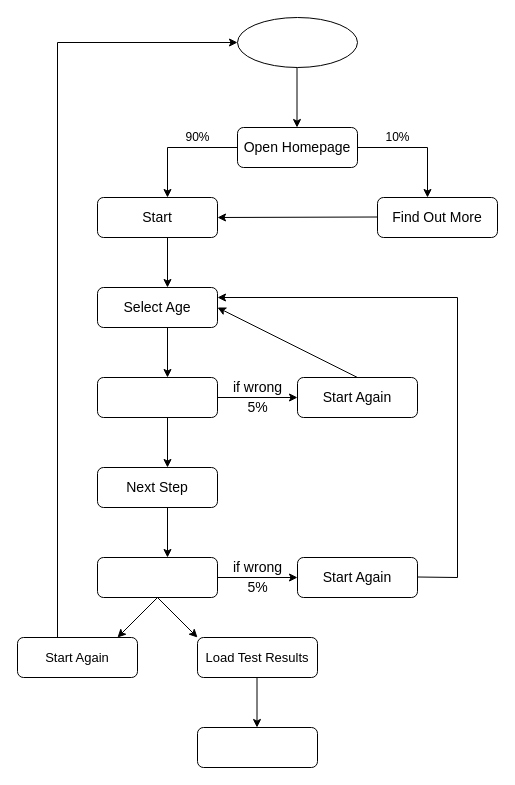
Image size: 515x785. Some labels were removed from this diagram. The shapes that lost their labels are listed below. From the top down, each one's centre as x and y in pixels, then its label:
At point (297, 42): "API".
At point (157, 397): "Select Order".
At point (157, 577): "Enter Token".
At point (257, 747): "Flood.io TOOLS".
